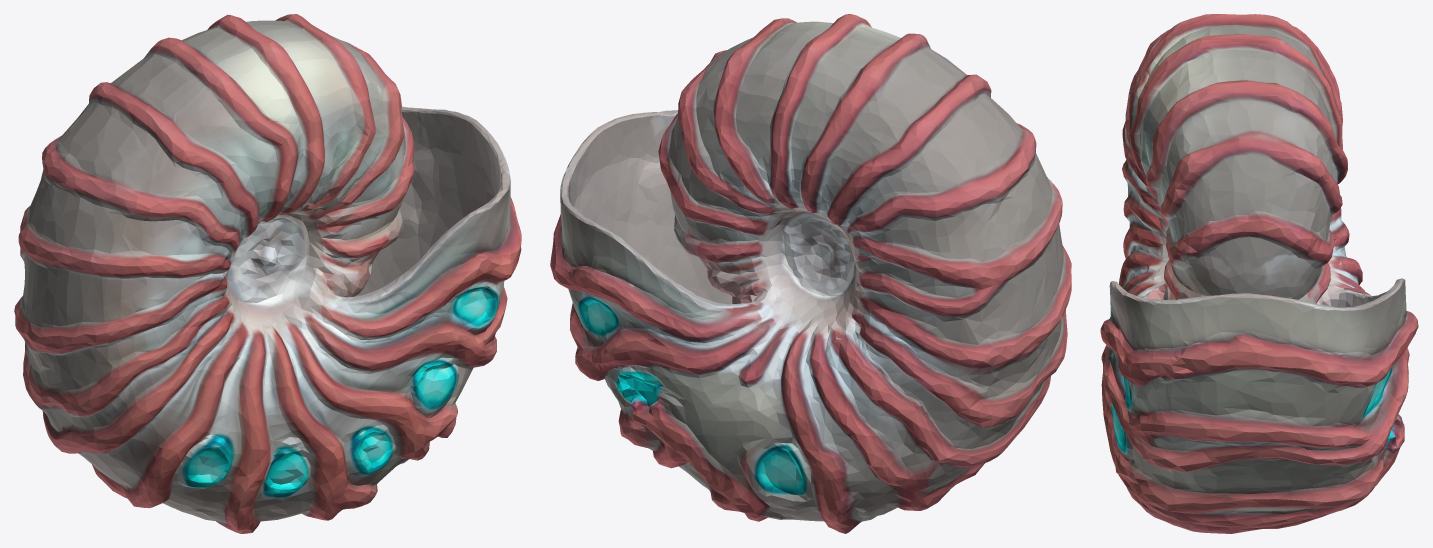
Rendered from vessel-08.glb.
3 views of the same model, side by side, from view 1: azimuth 30°, elevation 25°; view 2: azimuth 150°, elevation 25°; view 3: azimuth 270°, elevation 25° (orthographic). The views are drawn at different scales.
Parts seen in each view (by area): view 1: tmp111t7bjf.ply; view 2: tmp111t7bjf.ply; view 3: tmp111t7bjf.ply.
Boxes of the visible parts, box(x1,y1,x2,y2) form: tmp111t7bjf.ply: box(14, 14, 521, 533); tmp111t7bjf.ply: box(550, 14, 1071, 533); tmp111t7bjf.ply: box(1100, 14, 1418, 533).
Bounding box in the file's own units: 1.99 × 1.99 × 1.22.
1 material, 1 textured.
